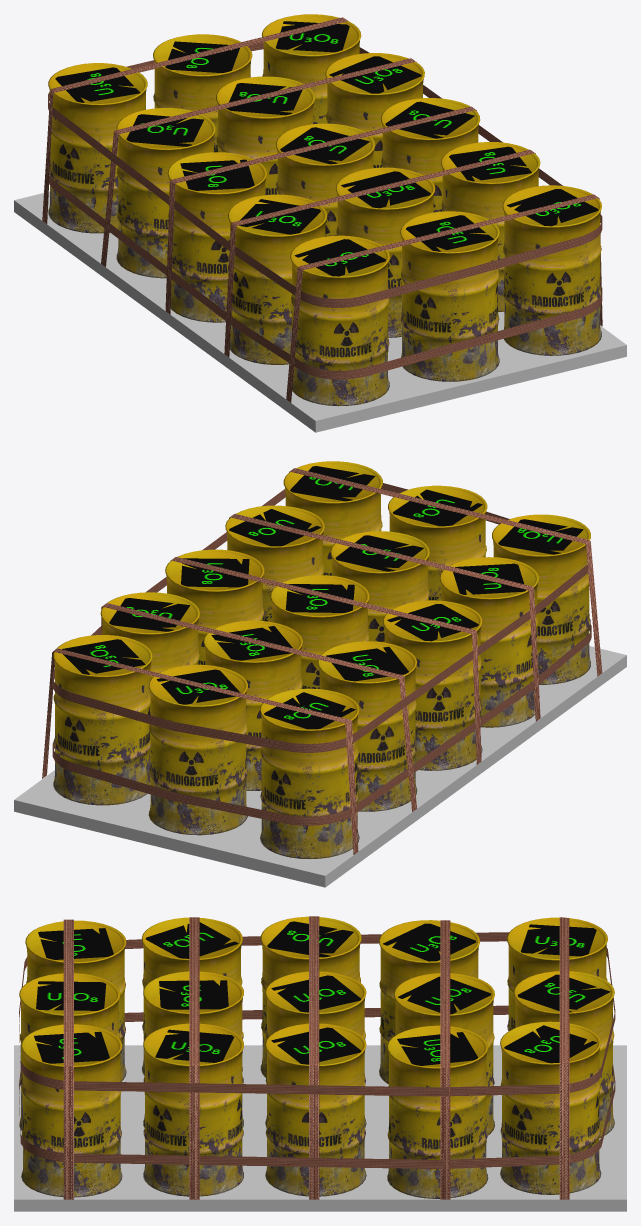
Rendered from MultiBarrel.fbx.
3 views of the same model, one above another, from view 1: azimuth 30°, elevation 25°; view 2: azimuth 150°, elevation 25°; view 3: azimuth 270°, elevation 25° (orthographic).
Visible parts, largest first — view 1: Cylinder.002; view 2: Cylinder.002; view 3: Cylinder.002.
Part boxes in pixels (x1,y1,x2,y2): Cylinder.002: (14,14,626,432); Cylinder.002: (14,461,626,887); Cylinder.002: (14,916,626,1211).
Size of what is drawn, in the model's own units: 255 by 111 by 427.
